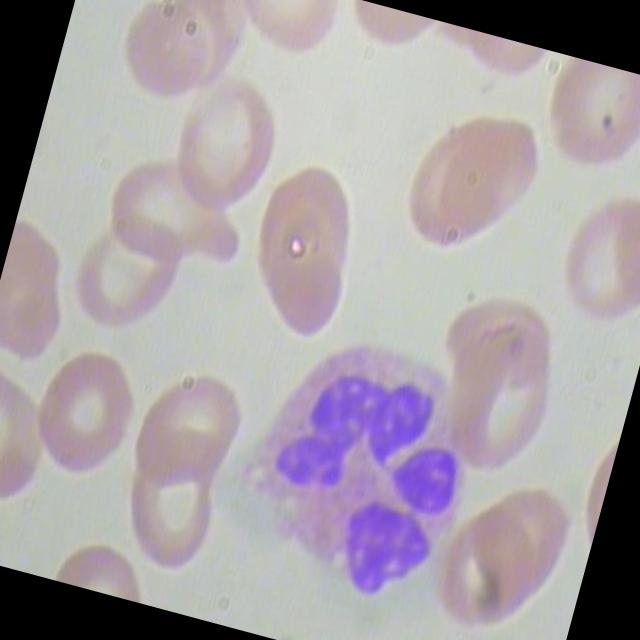RBC: (385, 94, 551, 280), (229, 160, 380, 358), (70, 144, 256, 278), (54, 198, 200, 347), (12, 338, 146, 496), (106, 424, 236, 586), (154, 70, 284, 220), (416, 497, 547, 640), (536, 183, 640, 339), (97, 0, 221, 111)
WBC: (212, 316, 498, 623)
